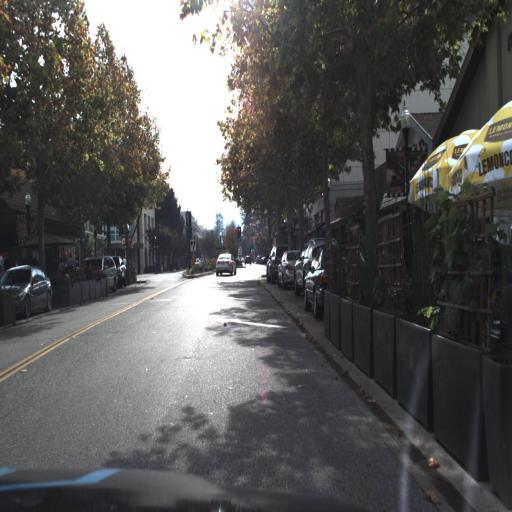car: (302, 246, 365, 318), (0, 262, 53, 318), (82, 254, 118, 296), (278, 252, 303, 294), (218, 256, 242, 285)
trafficLight-Red: (236, 224, 243, 240)
